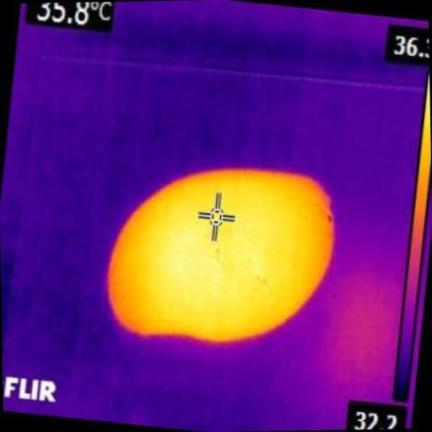mango: (107, 169, 334, 341)
